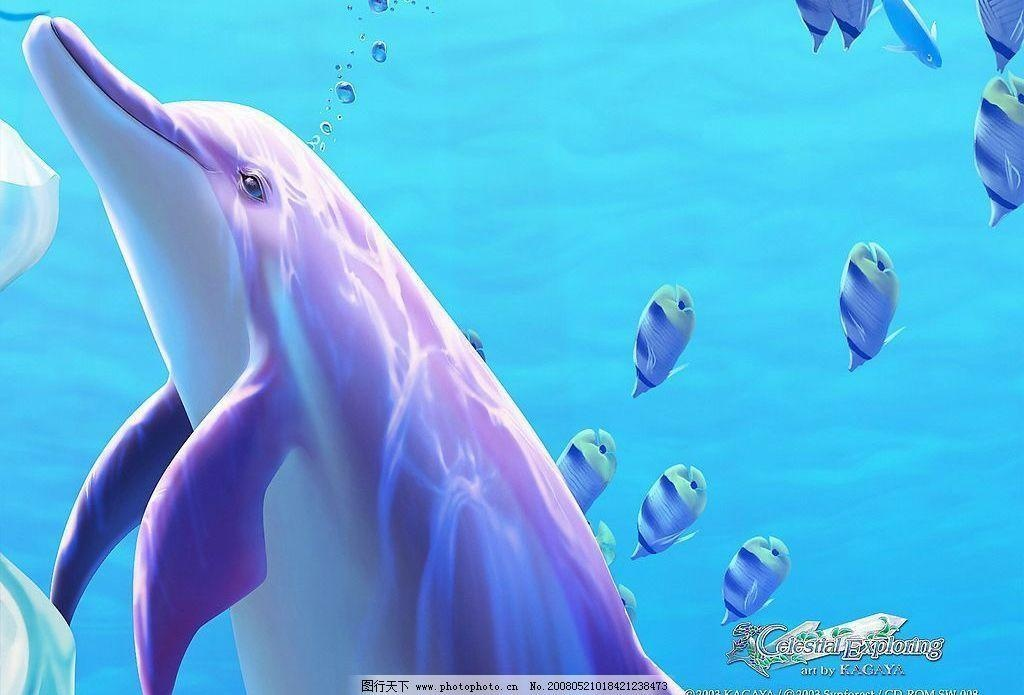fish: (21, 20, 696, 693)
